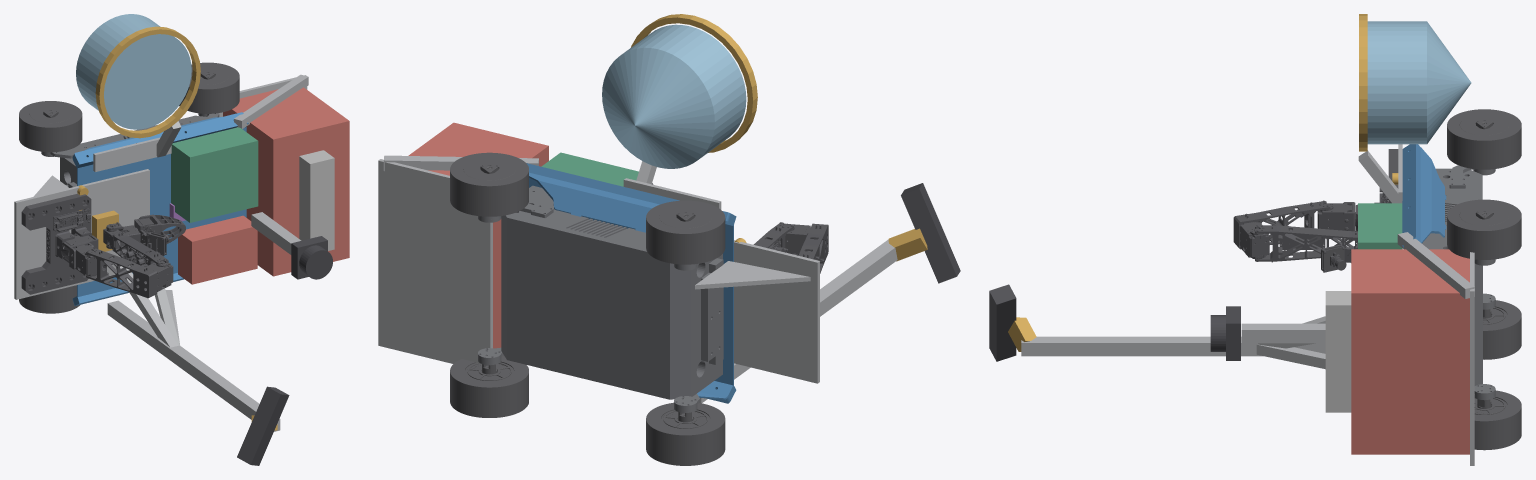
File: assembly_stow.glb
3 views of the same model, side by side, from view 1: azimuth 30°, elevation 25°; view 2: azimuth 150°, elevation 25°; view 3: azimuth 270°, elevation 25° (orthographic). The views are drawn at different scales.
Visible parts, largest first — view 1: mod/power_station(~Anker SOLIX C300 class, 24x16x14cm), mod/trash_bag(soft), mod/edge_compute_box(JetsonOrinNano|miniPC), wildbot/upper_blue_v1_1, mod/arm_front_plate_6mmAl, omx_f/link0, mod/power_distribution_box, mod/camera_mast_2020, mod/outlet_strip(3x AC, on top of power station), wildbot/new_wheel_v1__2___1__1, mod/bag_hoop_ring, omx_f/link2 (+19 smaller); view 2: wildbot/base_link, mod/rear_rack_floor, mod/trash_bag(soft), mod/arm_front_plate_6mmAl, wildbot/upper_blue_v1_1, wildbot/new_wheel_v1__2___1__1, wildbot/new_wheel_v1__1__1, wildbot/new_wheel_v1__2__1, mod/power_station(~Anker SOLIX C300 class, 24x16x14cm), wildbot/new_wheel_v1_1, mod/camera_D455, mod/bag_hoop_ring (+8 smaller); view 3: mod/power_station(~Anker SOLIX C300 class, 24x16x14cm), mod/trash_bag(soft), mod/camera_mast_2020, wildbot/new_wheel_v1__2___1__1, wildbot/new_wheel_v1__1__1, wildbot/upper_blue_v1_1, mod/outlet_strip(3x AC, on top of power station), wildbot/base_link, omx_f/link3, wildbot/new_wheel_v1_1, omx_f/link2, mod/edge_compute_box(JetsonOrinNano|miniPC) (+13 smaller).
Boxes of the visible parts, x1=… form: mod/power_station(~Anker SOLIX C300 class, 24x16x14cm): x1=223, y1=87, x2=349, y2=276; mod/trash_bag(soft): x1=76, y1=14, x2=191, y2=129; mod/edge_compute_box(JetsonOrinNano|miniPC): x1=171, y1=127, x2=258, y2=222; wildbot/upper_blue_v1_1: x1=72, y1=112, x2=248, y2=305; mod/arm_front_plate_6mmAl: x1=14, y1=169, x2=149, y2=299; omx_f/link0: x1=21, y1=193, x2=98, y2=294; mod/power_distribution_box: x1=178, y1=215, x2=257, y2=284; mod/camera_mast_2020: x1=107, y1=300, x2=280, y2=431; mod/outlet_strip(3x AC, on top of power station): x1=299, y1=150, x2=334, y2=250; wildbot/new_wheel_v1__2___1__1: x1=19, y1=101, x2=82, y2=152; mod/bag_hoop_ring: x1=95, y1=26, x2=200, y2=138; omx_f/link2: x1=86, y1=248, x2=173, y2=298; wildbot/base_link: x1=501, y1=185, x2=723, y2=399; mod/rear_rack_floor: x1=378, y1=159, x2=492, y2=364; mod/trash_bag(soft): x1=602, y1=24, x2=746, y2=168; mod/arm_front_plate_6mmAl: x1=734, y1=240, x2=819, y2=383; wildbot/upper_blue_v1_1: x1=526, y1=163, x2=736, y2=403; wildbot/new_wheel_v1__2___1__1: x1=646, y1=200, x2=725, y2=264; wildbot/new_wheel_v1__1__1: x1=450, y1=152, x2=528, y2=216; wildbot/new_wheel_v1__2__1: x1=646, y1=402, x2=725, y2=465; mod/power_station(~Anker SOLIX C300 class, 24x16x14cm): x1=408, y1=122, x2=548, y2=348; wildbot/new_wheel_v1_1: x1=450, y1=356, x2=528, y2=417; mod/camera_D455: x1=901, y1=183, x2=960, y2=283; mod/bag_hoop_ring: x1=631, y1=14, x2=757, y2=152; mod/power_station(~Anker SOLIX C300 class, 24x16x14cm): x1=1351, y1=249, x2=1469, y2=454; mod/trash_bag(soft): x1=1367, y1=21, x2=1471, y2=144; mod/camera_mast_2020: x1=1021, y1=336, x2=1325, y2=356; wildbot/new_wheel_v1__2___1__1: x1=1447, y1=109, x2=1521, y2=169; wildbot/new_wheel_v1__1__1: x1=1447, y1=199, x2=1521, y2=259; wildbot/upper_blue_v1_1: x1=1402, y1=144, x2=1446, y2=247; mod/outlet_strip(3x AC, on top of power station): x1=1325, y1=291, x2=1351, y2=412; wildbot/base_link: x1=1422, y1=168, x2=1482, y2=385; omx_f/link3: x1=1251, y1=224, x2=1357, y2=262; wildbot/new_wheel_v1_1: x1=1474, y1=390, x2=1521, y2=450; omx_f/link2: x1=1233, y1=200, x2=1330, y2=258; mod/edge_compute_box(JetsonOrinNano|miniPC): x1=1358, y1=203, x2=1402, y2=249.
Size of the model in its own units: 0.59 by 0.5463 by 0.718.
